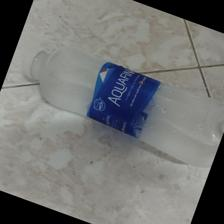Aquafina: (20, 46, 224, 170)
